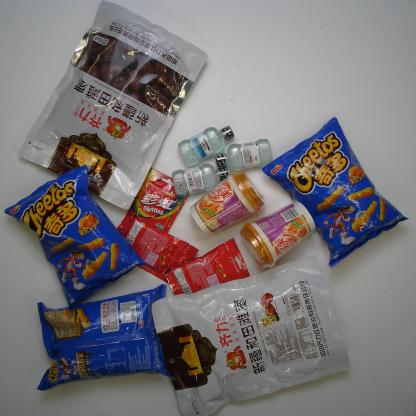Candy: (115, 208, 198, 284), (163, 236, 251, 294), (129, 166, 189, 233)
Dried Food: (17, 0, 208, 210), (151, 254, 351, 416)
Instant Drink: (239, 200, 316, 270), (189, 169, 265, 235)
Personal Hygiene: (178, 124, 234, 167), (215, 138, 272, 172), (172, 163, 229, 197)
Puffed Food: (260, 116, 410, 270), (3, 164, 148, 309), (36, 282, 172, 390)
